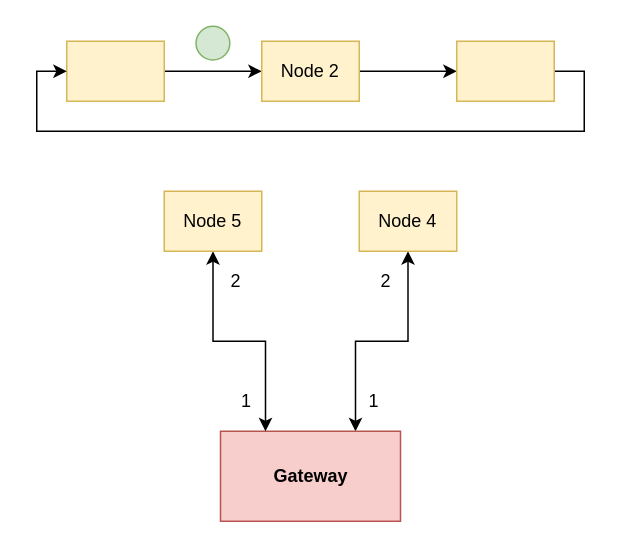
This 623x548 diagram has some shape labels left out. Here are the shapes that lost their labels. From the top down, the centre of each, then its label:
(114,70): Node 1
(504,70): Node 3
